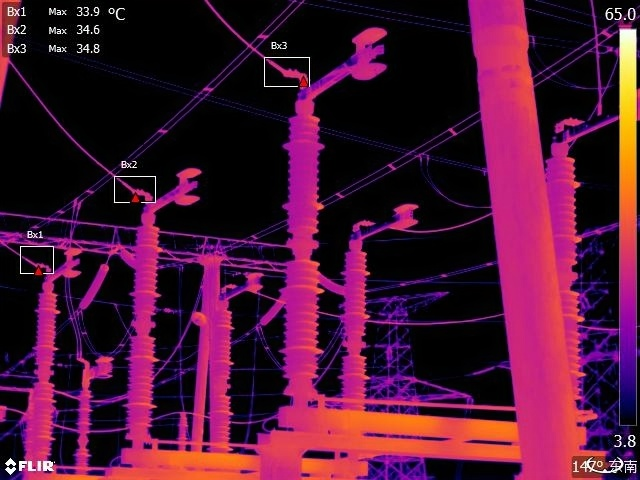insulator: (74, 258, 117, 319), (259, 293, 286, 328)
post insulator: (277, 110, 324, 410), (539, 152, 582, 406), (124, 222, 164, 446), (23, 287, 66, 462), (338, 245, 373, 415), (204, 303, 238, 453)
switch: (284, 18, 399, 113), (142, 166, 207, 223), (345, 198, 419, 247), (554, 107, 619, 149), (214, 263, 264, 301), (39, 252, 82, 291)
